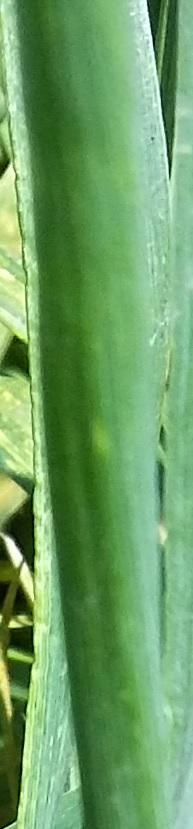Potato: (58, 230, 153, 585), (36, 15, 145, 196), (63, 603, 152, 811)
